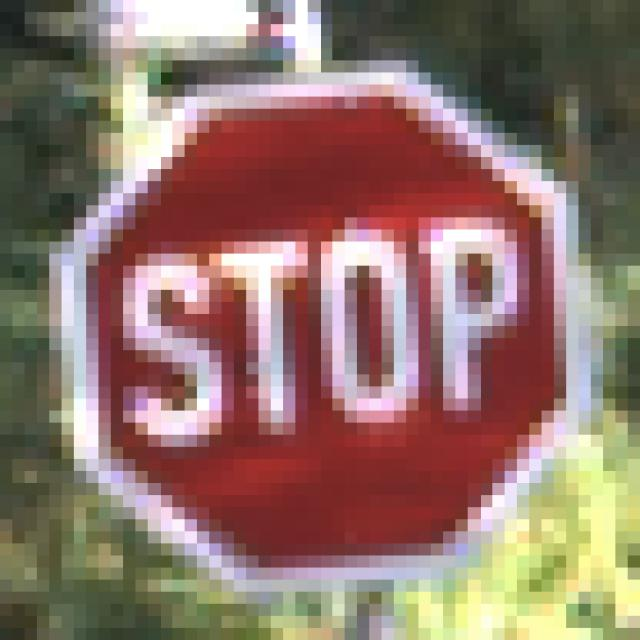STOP: (63, 74, 580, 581)
